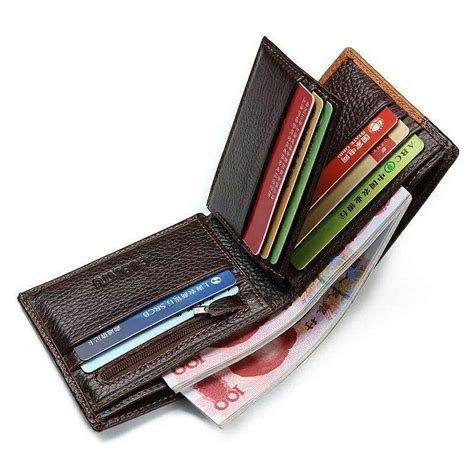cuero: (18, 33, 457, 431)
